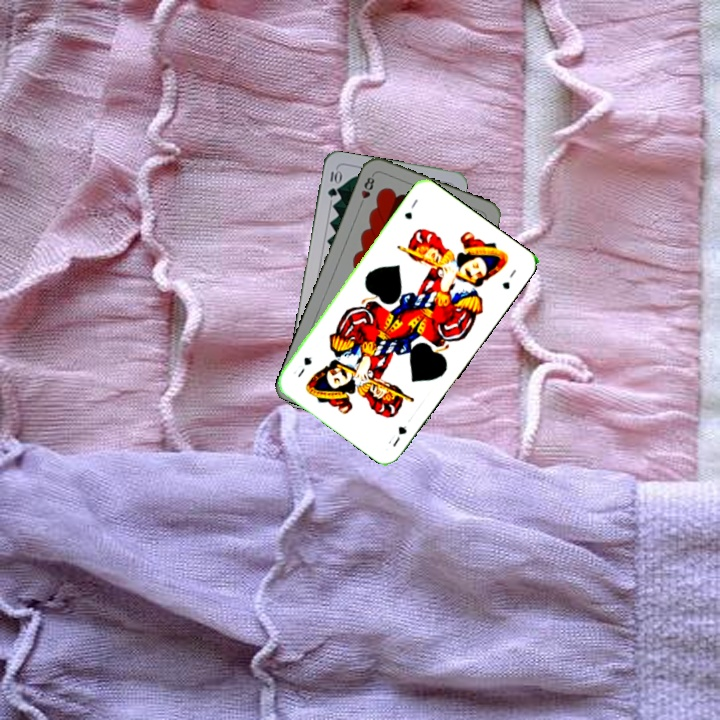G10: (324, 165, 343, 200)
GU: (400, 195, 421, 222), (388, 422, 409, 449)
H8: (355, 171, 377, 210)
